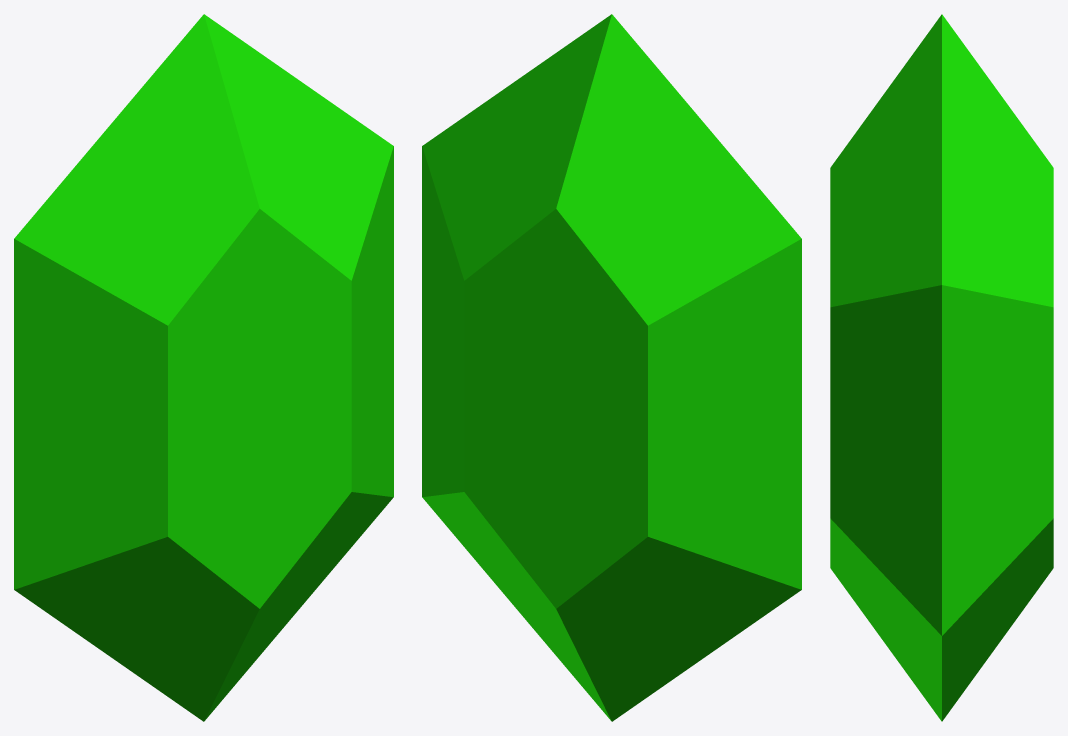
The model's file is rupee.glb.
3 views of the same model, side by side, from view 1: azimuth 30°, elevation 25°; view 2: azimuth 150°, elevation 25°; view 3: azimuth 270°, elevation 25° (orthographic).
Parts seen in each view (by area): view 1: Gem; view 2: Gem; view 3: Gem.
Part boxes in pixels (x1=…): Gem: x1=14, y1=14, x2=393, y2=721; Gem: x1=422, y1=14, x2=801, y2=721; Gem: x1=830, y1=14, x2=1053, y2=721.
Size of the model in its own units: 1.78 by 3.18 by 0.9078.
